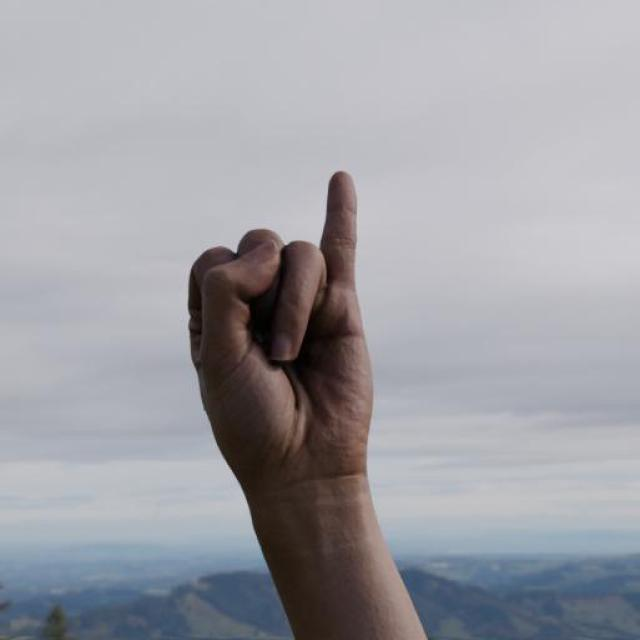I: (184, 167, 379, 491)
